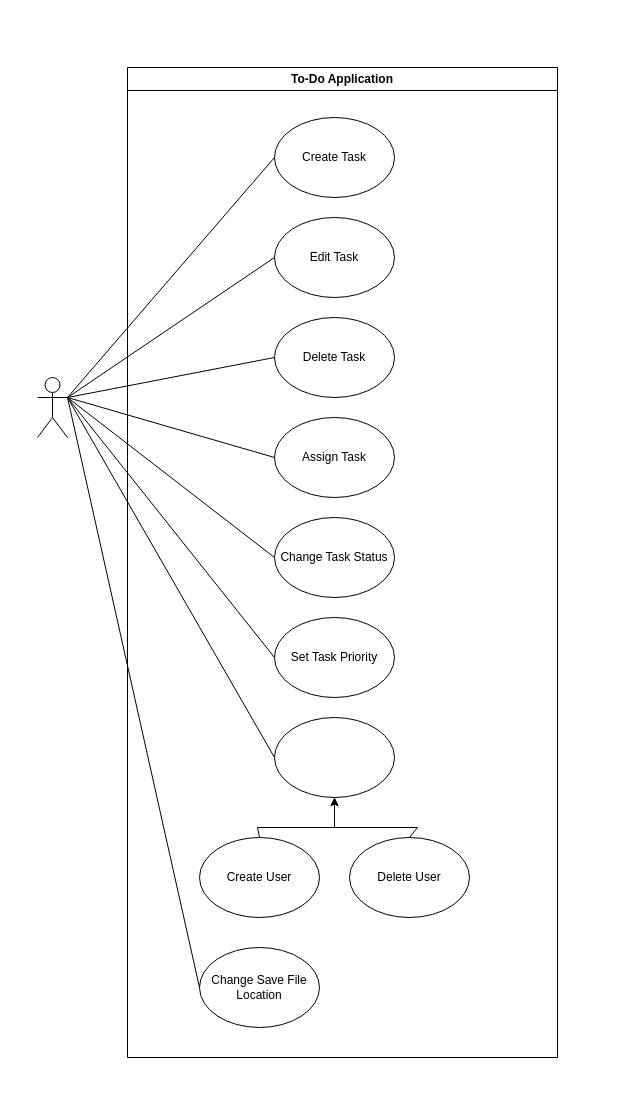
The diagram is 644 pixels wide and 1104 high, and some of its shapes have lost their labels. The centre of each missing label's shape, as x and y in pixels:
"Manage User" belongs at point 334,757.
"User" belongs at point 52,407.
